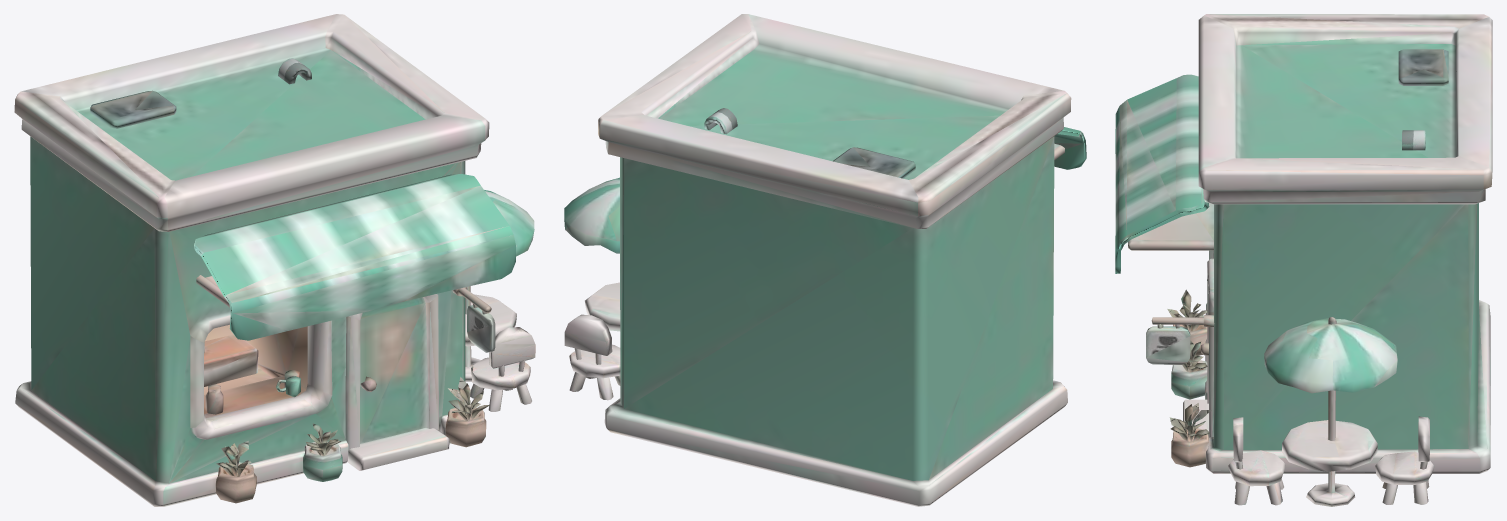
Rendered from cafe.glb.
The picture shows the model from 3 angles, left to right: view 1: azimuth 30°, elevation 25°; view 2: azimuth 150°, elevation 25°; view 3: azimuth 270°, elevation 25°; orthographic projection.
Size of the model in its own units: 0.9521 by 0.6543 by 0.7271.
1 material, 1 textured.
